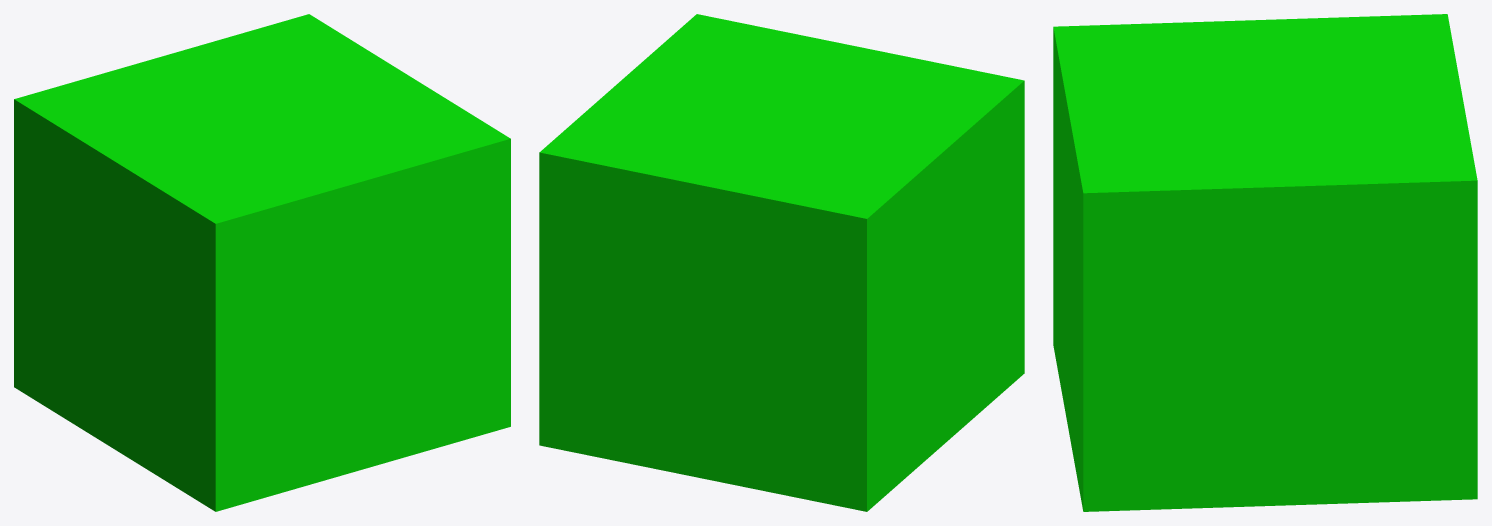
The picture shows the model from 3 angles, left to right: view 1: azimuth 30°, elevation 25°; view 2: azimuth 150°, elevation 25°; view 3: azimuth 270°, elevation 25°; orthographic projection. The views are drawn at different scales.
Visible parts, largest first — view 1: pCube1; view 2: pCube1; view 3: pCube1.
Part boxes in pixels (bbox=[...]): pCube1: bbox=[14, 14, 510, 511]; pCube1: bbox=[539, 14, 1024, 511]; pCube1: bbox=[1053, 14, 1477, 511].
Bounding box in the file's own units: 4.59 × 3.8 × 4.59.
